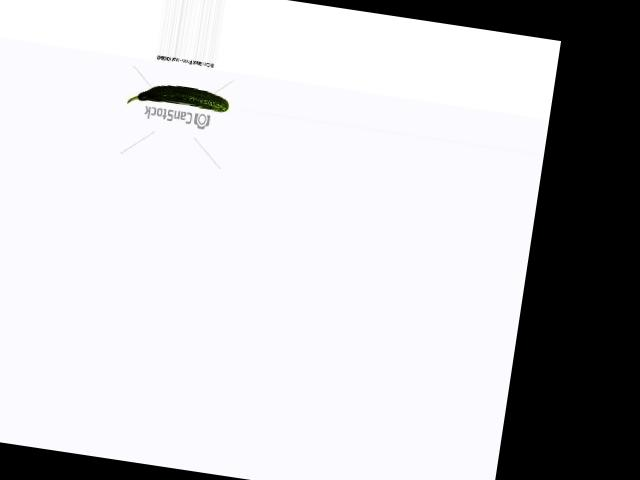cucumber: (126, 78, 229, 117)
